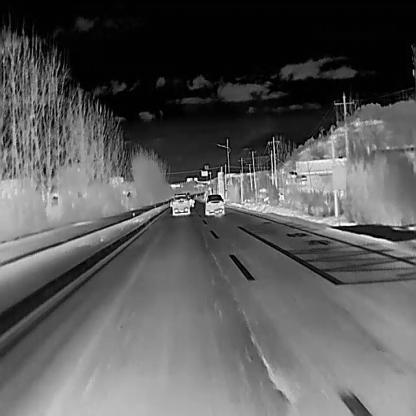car: (204, 194, 224, 216), (172, 192, 190, 216), (262, 192, 285, 203), (186, 194, 194, 207)
